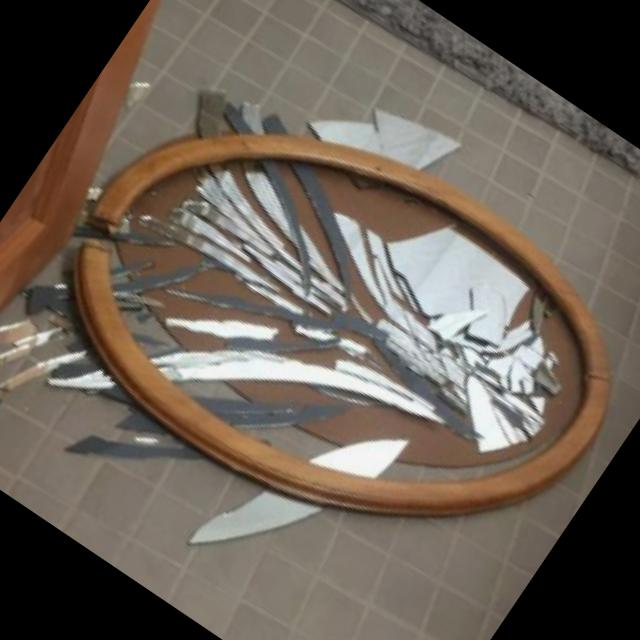PecahanKaca: (37, 51, 615, 582)
